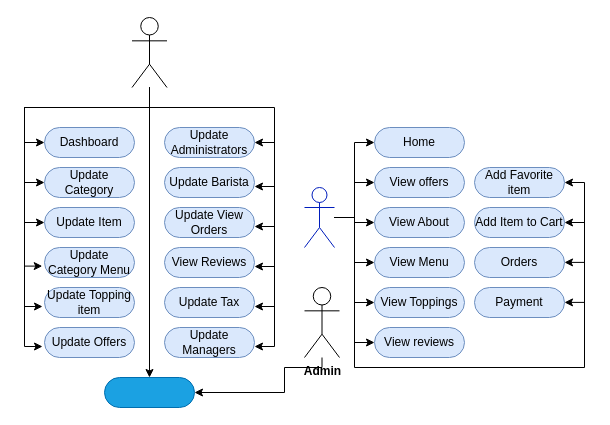
The diagram is 610 pixels wide and 425 high, and some of its shapes have lost their labels. The box of each missing label's shape, as (x1, y1, x2, y2) in pixels:
Customer: (304, 186, 334, 248)
Login: (104, 376, 194, 408)
